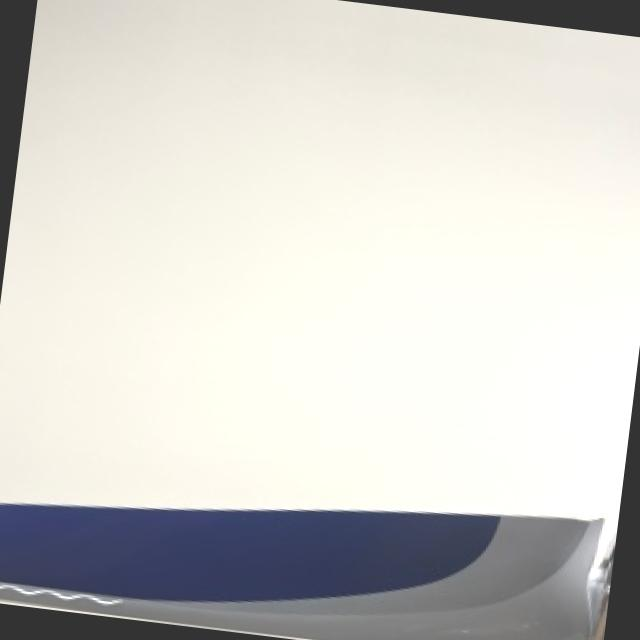healthy: (0, 503, 599, 640)
